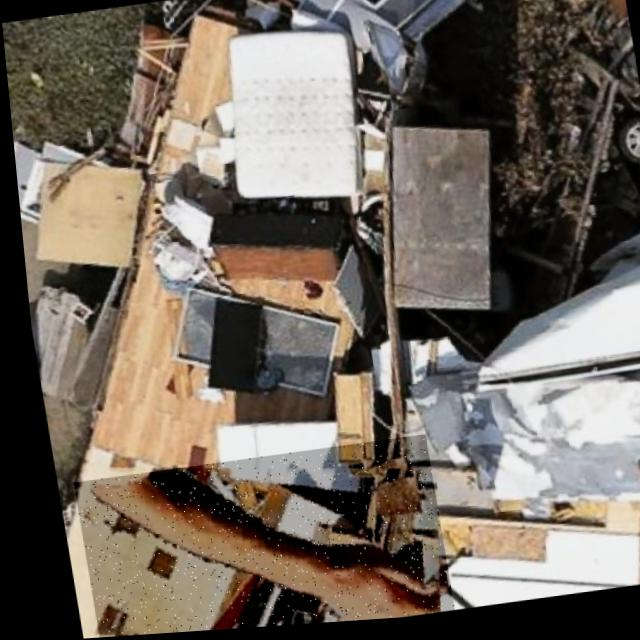Person in Rubble: (61, 437, 441, 639)
